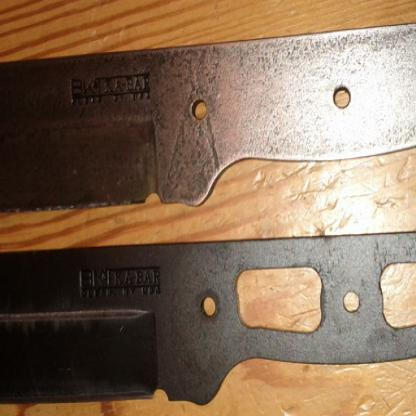knife: (0, 14, 415, 213), (0, 224, 415, 415)
